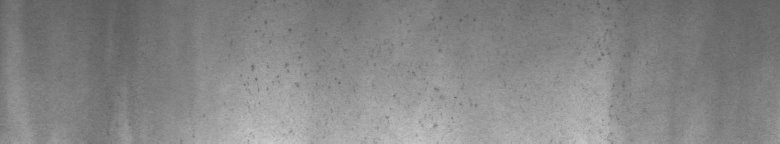ib: (407, 16, 478, 129)
